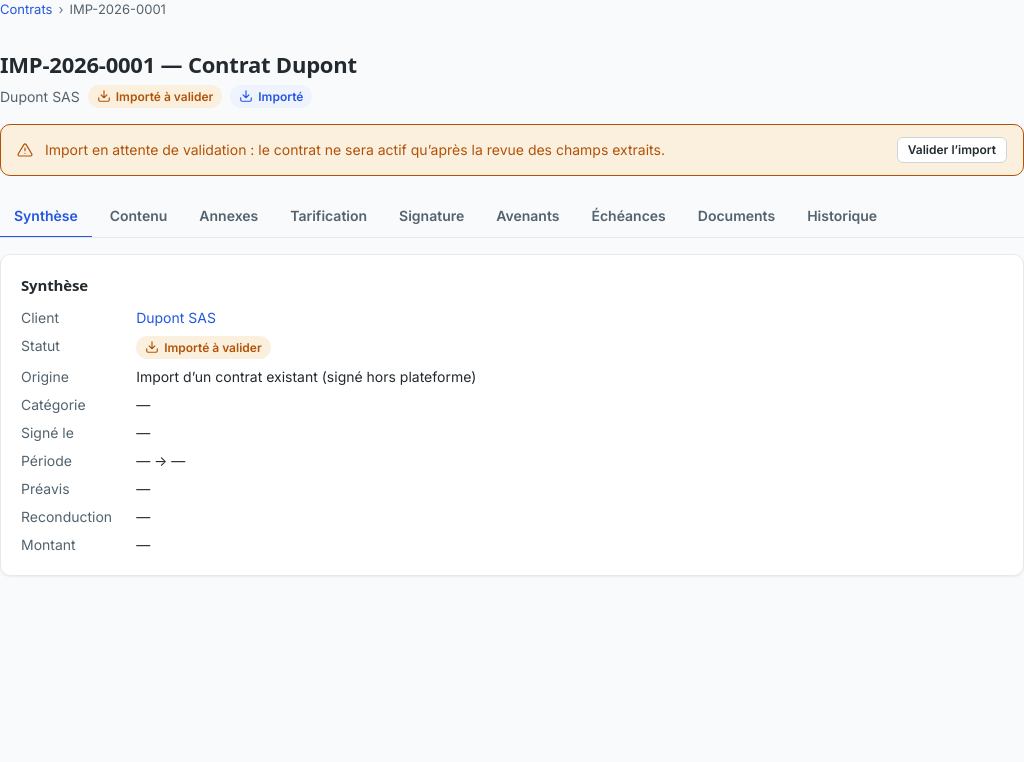
Test: Annexes (contenu structuré) et Tarification (barème du contrat)
Click the tab "Annexes".
click(229, 217)  # box [185,196,272,238]
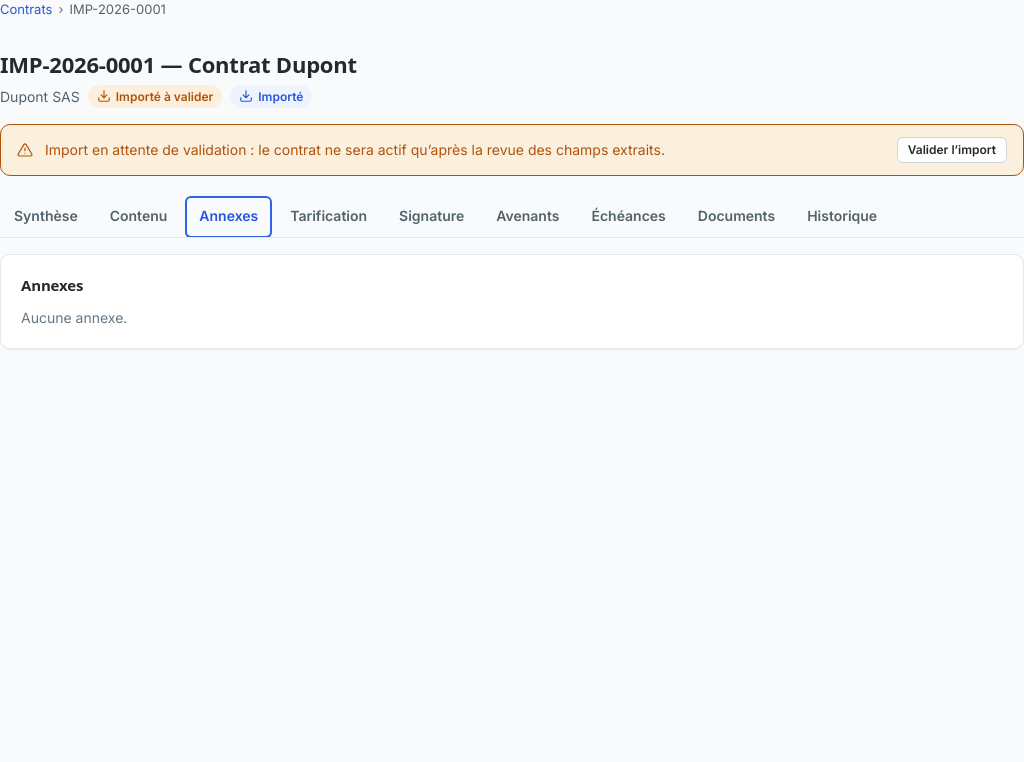
Expected: the text "Aucune annexe." is shown, [21,309,127,326]
Click the tab "Tarification".
click(329, 217)  # box [276,196,381,238]
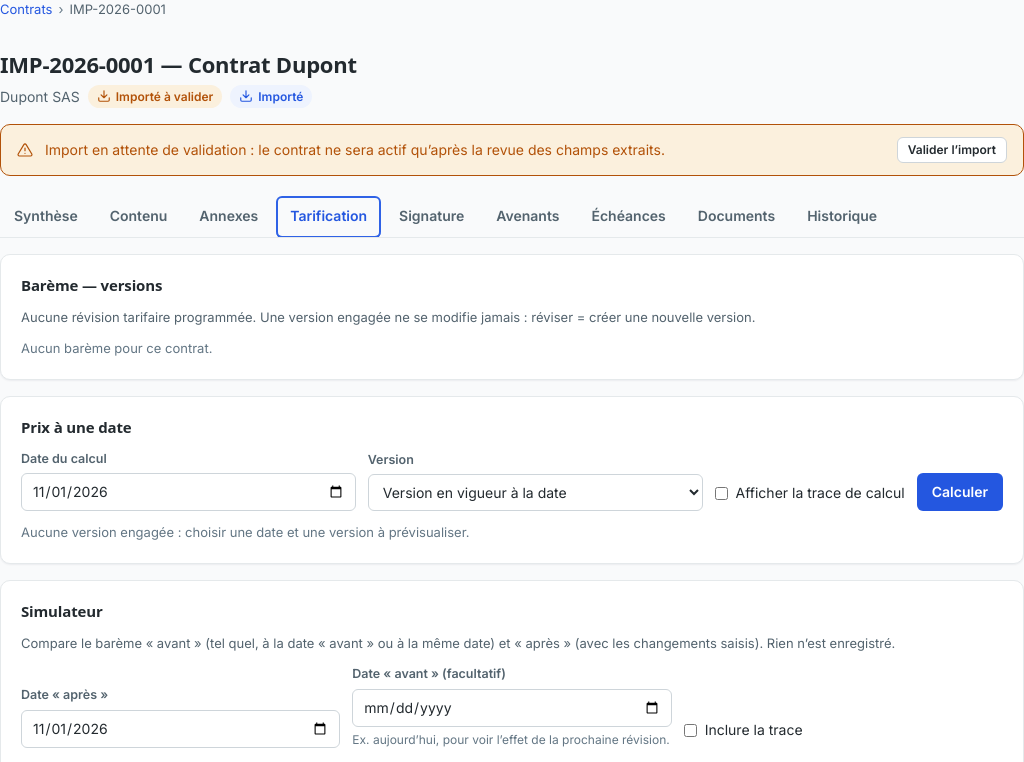
Expected: the heading "Barème — versions" is shown, [21,275,162,296]
Expected: the text "Aucun barème pour ce contrat." is shown, [21,340,212,356]
